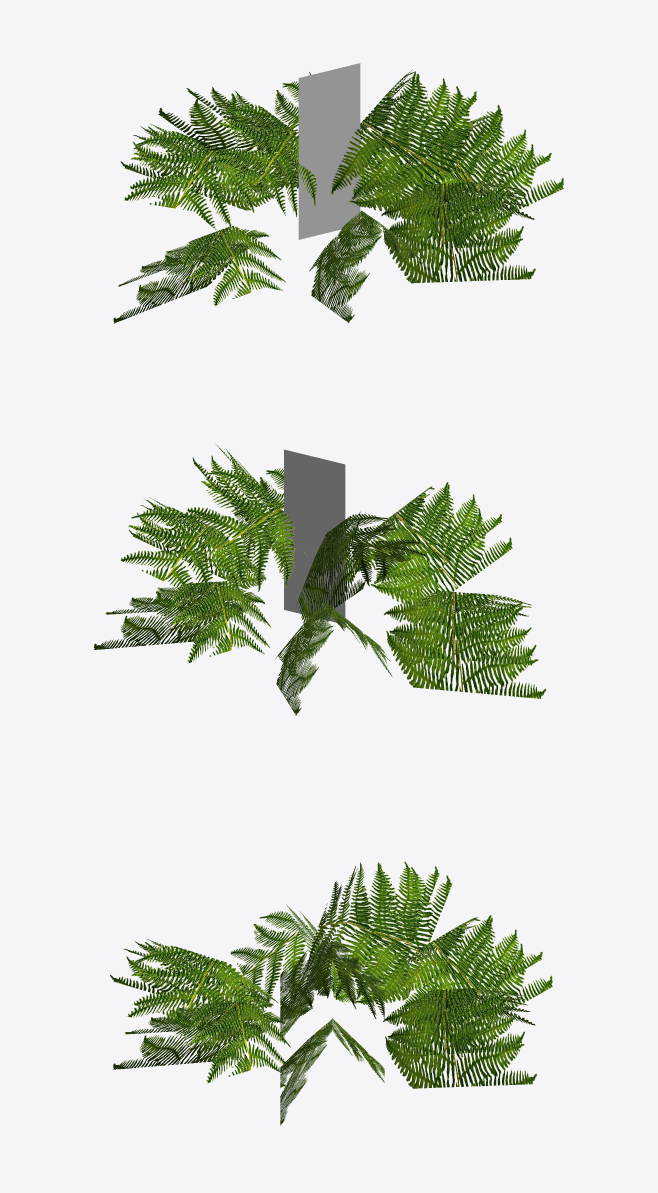
The model's file is TropicFern01.DAE.
3 views of the same model, one above another, from view 1: azimuth 30°, elevation 25°; view 2: azimuth 150°, elevation 25°; view 3: azimuth 270°, elevation 25° (orthographic).
Parts seen in each view (by area): view 1: TropicFern128, TropicFern256; view 2: TropicFern128, TropicFern256; view 3: TropicFern128, TropicFern256.
Part boxes in pixels (x1,y1,x2,y2): TropicFern128: (113, 71, 563, 323); TropicFern256: (118, 63, 551, 302); TropicFern128: (94, 455, 546, 715); TropicFern256: (105, 444, 538, 677); TropicFern128: (110, 863, 552, 1125); TropicFern256: (123, 861, 542, 1087).
Bounding box in the file's own units: 1.83 × 1.78 × 0.925.
